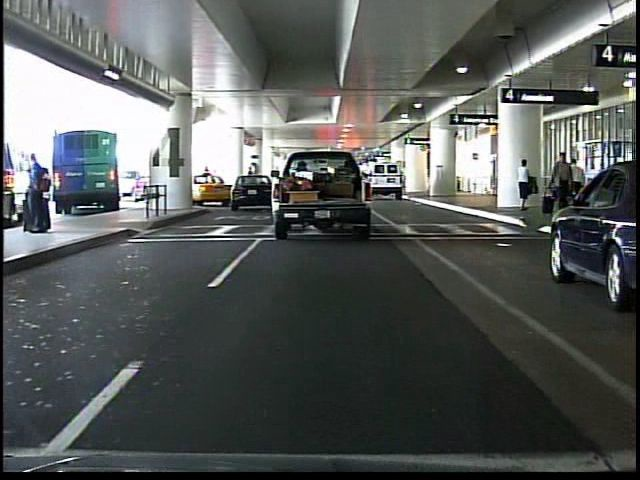person: (21, 142, 57, 239), (551, 147, 579, 207), (564, 156, 587, 220), (513, 155, 535, 213)
